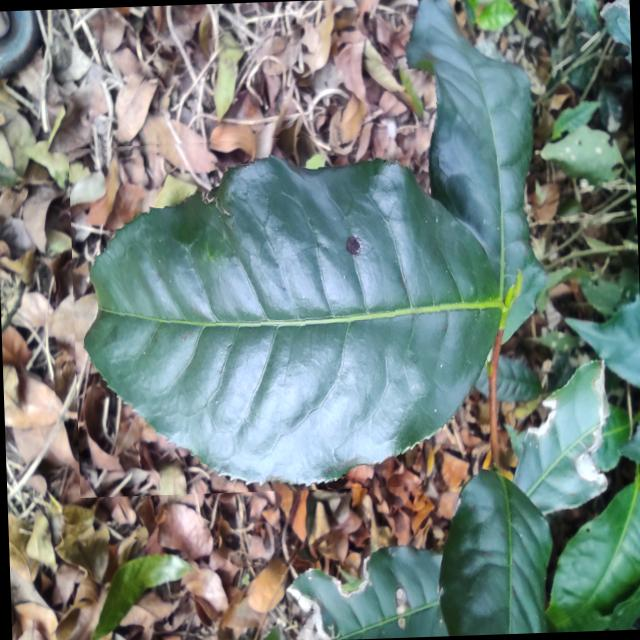Category D(7+ days, Not for Tea): (66, 125, 512, 498)
